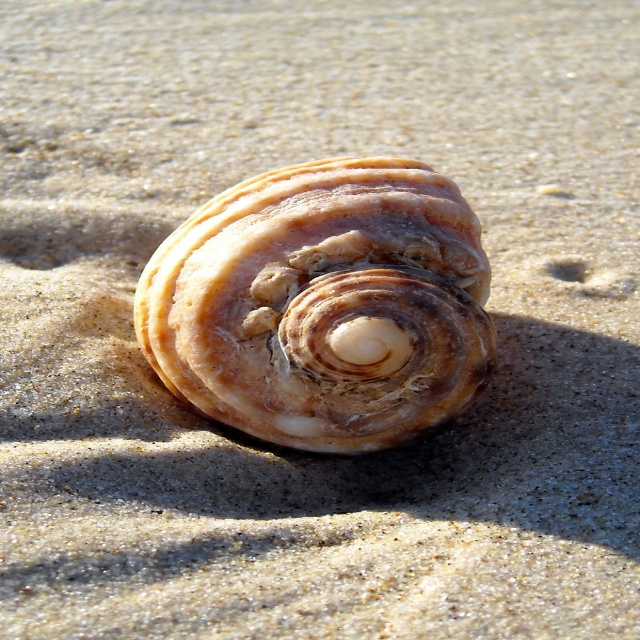Snail: (124, 147, 508, 454)
